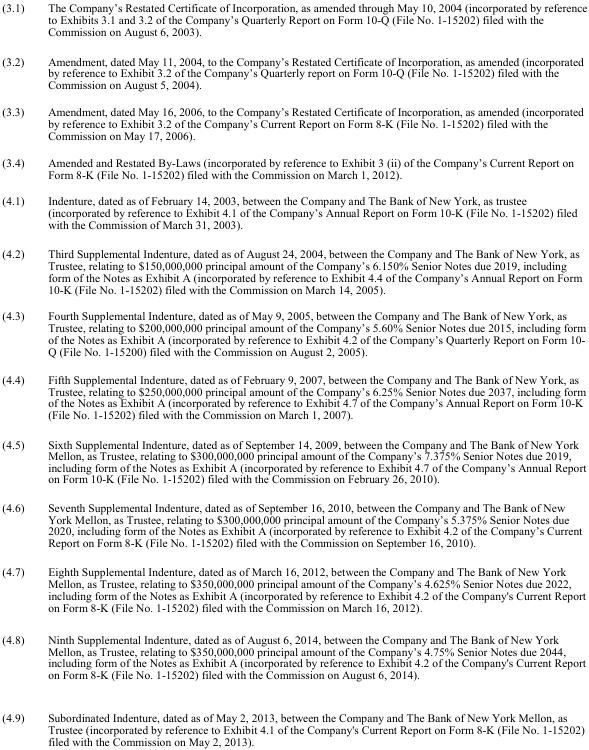table: (1, 0, 586, 747)
table column: (35, 0, 586, 747), (1, 0, 35, 747)
table row: (1, 622, 586, 695), (1, 556, 586, 622), (1, 238, 586, 302), (1, 428, 586, 492), (1, 492, 586, 556), (1, 302, 586, 365), (1, 365, 586, 428), (1, 45, 586, 97), (1, 695, 586, 747), (1, 97, 586, 148), (1, 187, 586, 238), (1, 0, 586, 45), (1, 148, 586, 187)
